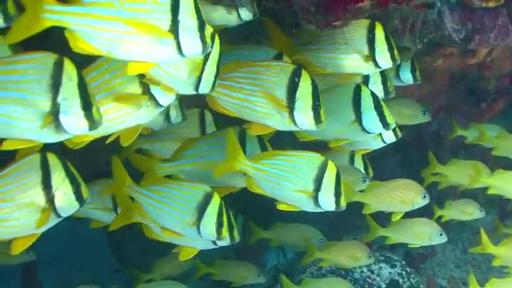Fish: (7, 0, 214, 72), (109, 156, 237, 243), (216, 133, 353, 211), (65, 58, 176, 148), (0, 52, 102, 149), (128, 127, 271, 192), (0, 152, 89, 254), (206, 60, 324, 134), (263, 18, 399, 75), (295, 84, 395, 145), (144, 33, 220, 95), (127, 108, 217, 159), (347, 179, 430, 221), (143, 225, 239, 260), (364, 216, 447, 247), (422, 152, 491, 189), (314, 71, 395, 99), (73, 179, 119, 227), (248, 223, 326, 250), (330, 126, 401, 155), (301, 240, 374, 268), (196, 260, 266, 287), (132, 253, 195, 282), (198, 0, 258, 28), (468, 228, 511, 267), (144, 97, 186, 134), (450, 120, 506, 147), (220, 44, 291, 65), (322, 150, 373, 178), (384, 98, 431, 125), (433, 199, 485, 222), (388, 57, 421, 86), (281, 275, 353, 287), (337, 166, 371, 191), (0, 0, 24, 28), (488, 132, 511, 159), (468, 273, 511, 287), (0, 250, 36, 266), (0, 36, 18, 57), (136, 280, 187, 287), (493, 220, 511, 236)
